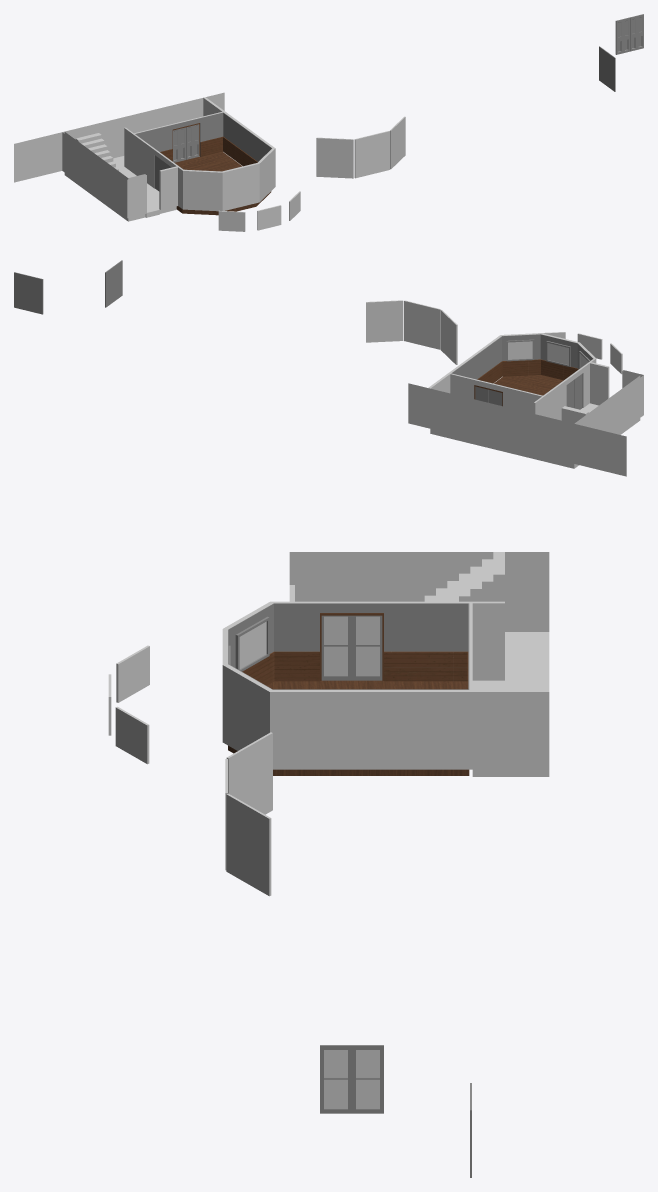
The model's file is House v2.FBX.
3 renders of one model, top to bottom at view 1: azimuth 30°, elevation 25°; view 2: azimuth 150°, elevation 25°; view 3: azimuth 270°, elevation 25°, orthographic. The views are drawn at different scales.
Visible parts, largest first — view 1: Layer:Exterior Wall, Layer:Interior Wall, Object005, Layer:windows, Layer:floor, Layer:0, Layer:Block origin, Object001, Layer:001, Layer:Layer1, StraightStair001, Object007 (+1 smaller); view 2: Layer:Exterior Wall, Layer:Interior Wall, Object001, Object005, Layer:0, Layer:Block origin, Layer:floor, Object003, Layer:windows, Layer:Layer1, Object007, Layer:Layer002 (+4 smaller); view 3: Layer:Interior Wall, Layer:Exterior Wall, Object005, Object001, Layer:Block origin, Layer:floor, Layer:windows, Object009, Object008, StraightStair001, Object007, Layer:Layer1 (+3 smaller).
Part boxes in pixels (x1,y1,x2,y2): Layer:Exterior Wall: (14, 92, 405, 218); Layer:Interior Wall: (124, 97, 275, 211); Object005: (140, 117, 268, 188); Layer:windows: (218, 191, 300, 231); Layer:floor: (174, 151, 271, 215); Layer:0: (615, 14, 643, 54); Layer:Block origin: (64, 156, 199, 221); Object001: (160, 136, 257, 166); Layer:001: (173, 124, 199, 162); Layer:Layer1: (599, 46, 615, 91); StraightStair001: (75, 133, 118, 170); Object007: (136, 113, 271, 150); Layer:Exterior Wall: (366, 300, 643, 476); Layer:Interior Wall: (428, 333, 609, 428); Object001: (477, 359, 578, 383); Object005: (457, 339, 583, 407); Layer:0: (14, 272, 43, 314); Layer:Block origin: (430, 403, 640, 468); Layer:floor: (494, 375, 563, 395); Object003: (508, 341, 588, 367); Layer:windows: (538, 332, 622, 374); Layer:Layer1: (105, 260, 122, 307); Object007: (453, 335, 592, 374); Layer:Layer002: (566, 373, 582, 409); Layer:Interior Wall: (222, 585, 549, 769); Layer:Exterior Wall: (225, 552, 549, 896); Object005: (228, 613, 468, 667); Object001: (242, 651, 468, 688); Layer:Block origin: (472, 632, 549, 776); Layer:floor: (228, 680, 469, 775); Layer:windows: (108, 645, 149, 764); Object009: (324, 616, 379, 675); Object008: (324, 1050, 379, 1108); StraightStair001: (424, 552, 504, 601); Object007: (228, 605, 468, 638); Layer:Layer1: (320, 1045, 383, 1113).
Bounding box in the file's own units: 1583 × 111 × 495.
